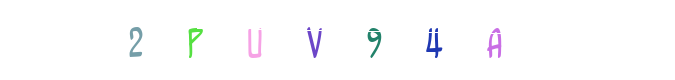2: (153, 0, 233, 80)
4: (340, 0, 420, 80)
9: (334, 0, 414, 80)
A: (393, 0, 473, 80)
P: (157, 0, 237, 80)
U: (292, 0, 372, 80)
V: (297, 0, 377, 80)
